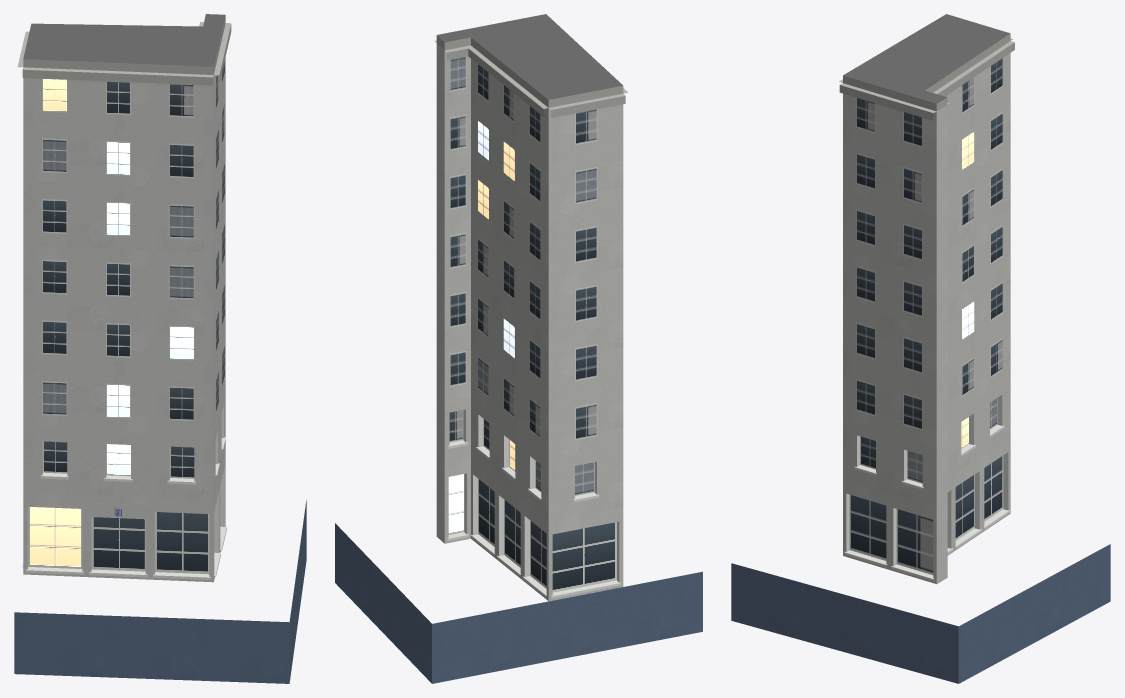
Rendered from langB_sudaka.glb.
3 views of the same model, side by side, from view 1: azimuth 30°, elevation 25°; view 2: azimuth 150°, elevation 25°; view 3: azimuth 270°, elevation 25° (orthographic). The views are drawn at different scales.
Parts seen in each view (by area): view 1: langB_sudaka; view 2: langB_sudaka; view 3: langB_sudaka.
Part boxes in pixels (left/top/right/bottom): langB_sudaka: left=14, top=14, right=306, bottom=683; langB_sudaka: left=335, top=14, right=702, bottom=683; langB_sudaka: left=731, top=14, right=1110, bottom=683.
Size of the model in its own units: 17.03 by 28.02 by 17.91.
Materials: 3 (3 with a texture image).
